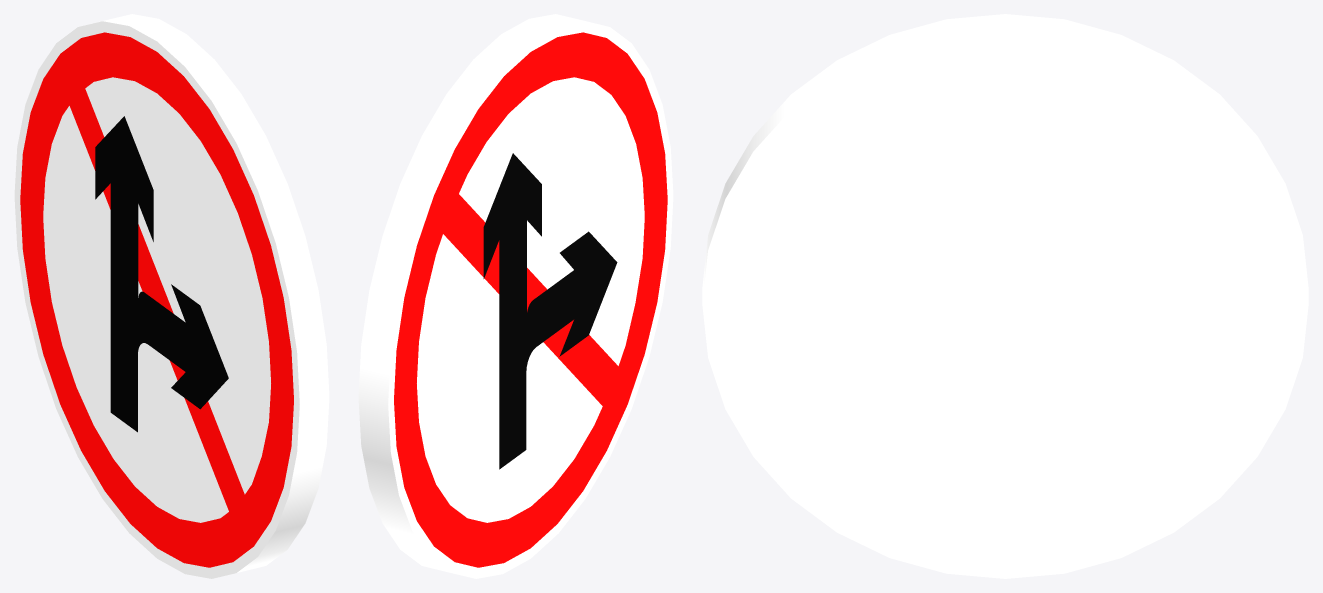
The model's file is No_Straight_Right_Turn.glb.
3 views of the same model, side by side, from view 1: azimuth 30°, elevation 25°; view 2: azimuth 150°, elevation 25°; view 3: azimuth 270°, elevation 25° (orthographic). The views are drawn at different scales.
Visible parts, largest first — view 1: No_Straight_Right_Turn; view 2: No_Straight_Right_Turn; view 3: No_Straight_Right_Turn.
Part boxes in pixels (x1,y1,x2,y2): No_Straight_Right_Turn: (14,14,329,578); No_Straight_Right_Turn: (358,14,673,578); No_Straight_Right_Turn: (702,14,1308,578).
Bounding box in the file's own units: 0.075 × 1 × 1.
